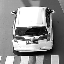motor: (13, 7, 48, 56)
